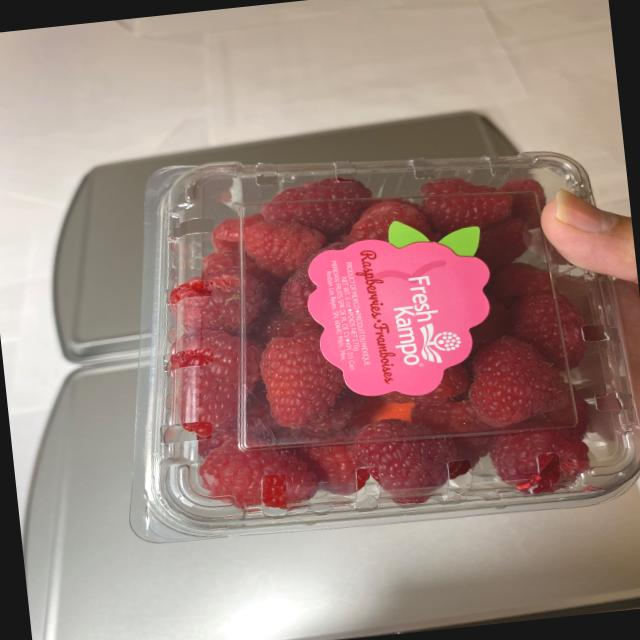raspberries: (146, 142, 603, 538)
